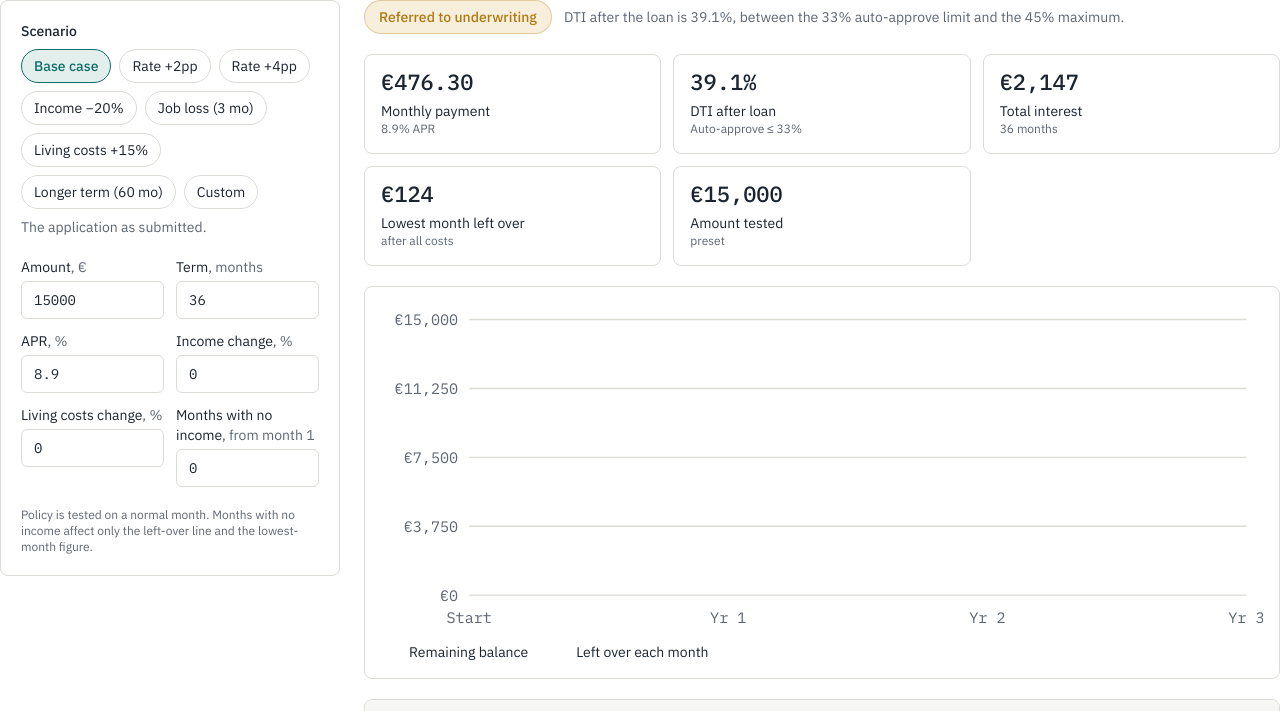
Test case: ScenarioLab › switches to Custom on edit and keeps the last valid result on bad input
Step 1. Clear the field labelled "Amount, €" → (92, 300), box x1=21 y1=281 x2=164 y2=319
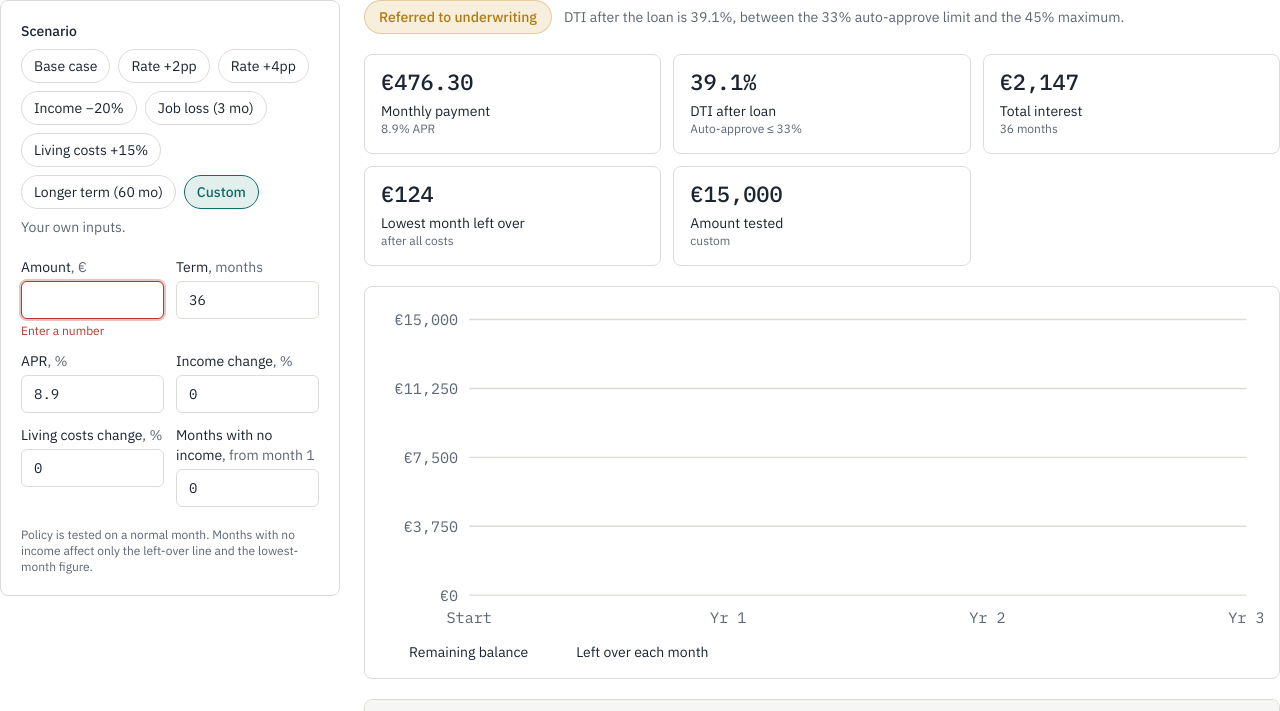
Expected: the element with test id "scenario-outcome" shows "Referred to underwriting", x1=379 y1=8 x2=537 y2=26
Expected: the text "Enter a number" is shown, x1=21 y1=323 x2=104 y2=338
Step 2. Type "8000" into the field labelled "Amount, €" → (92, 300), box x1=21 y1=281 x2=164 y2=319
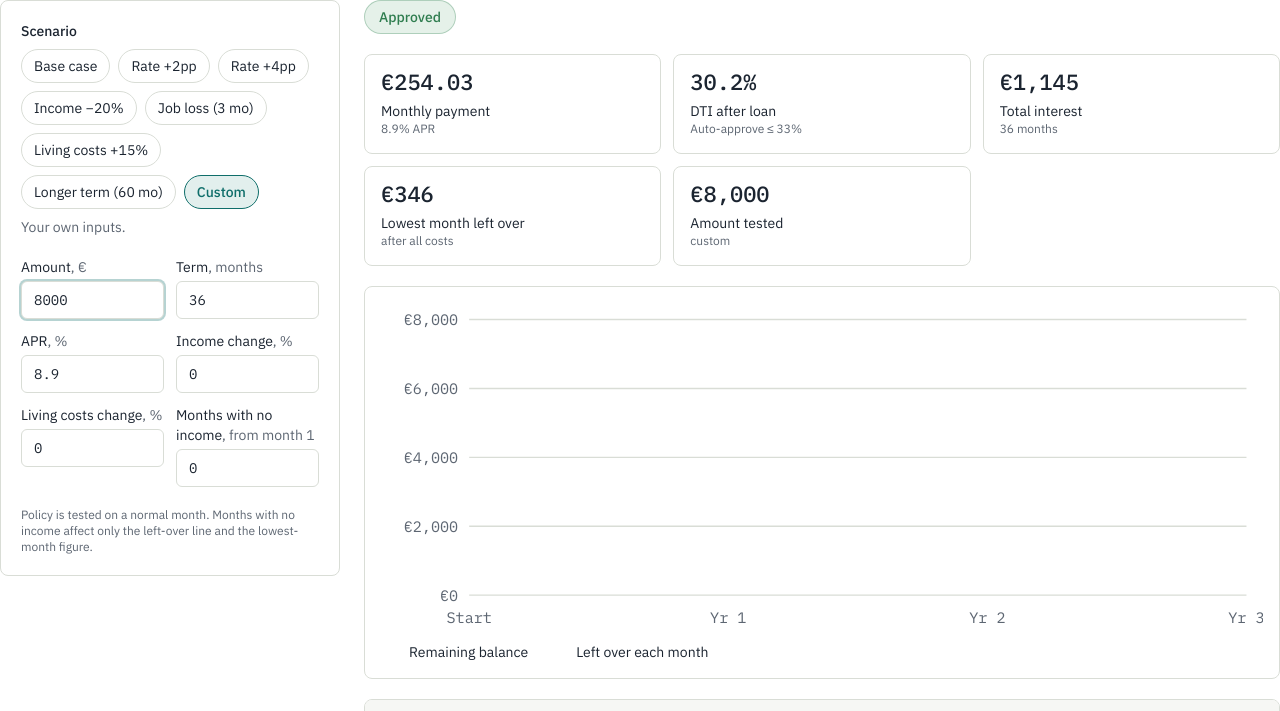
Expected: the element with test id "scenario-outcome" reads "Approved", x1=379 y1=8 x2=441 y2=26
